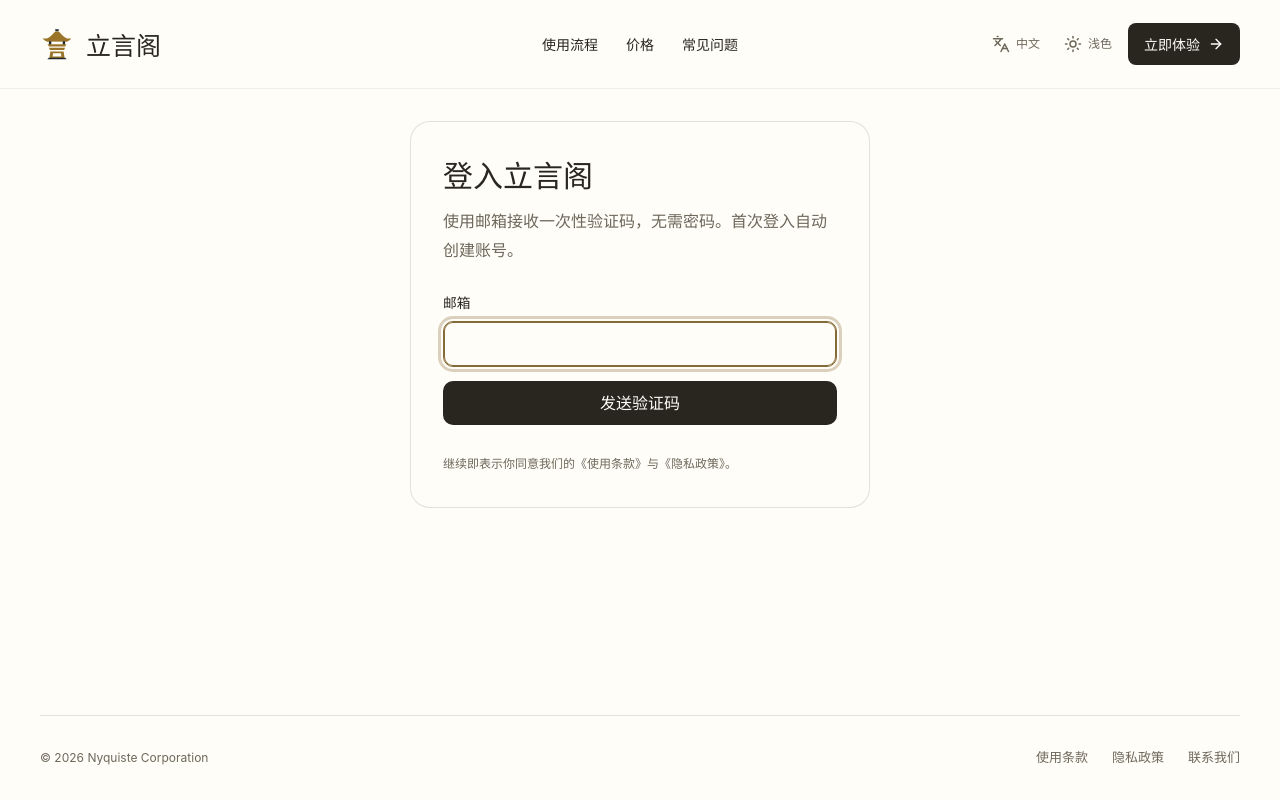
Test: Email OTP sign in › keeps a signed-out visitor's language choice for the next visit
Click the button with aria-label "语言: 中文" at (1016, 44), box [984, 22, 1048, 66]
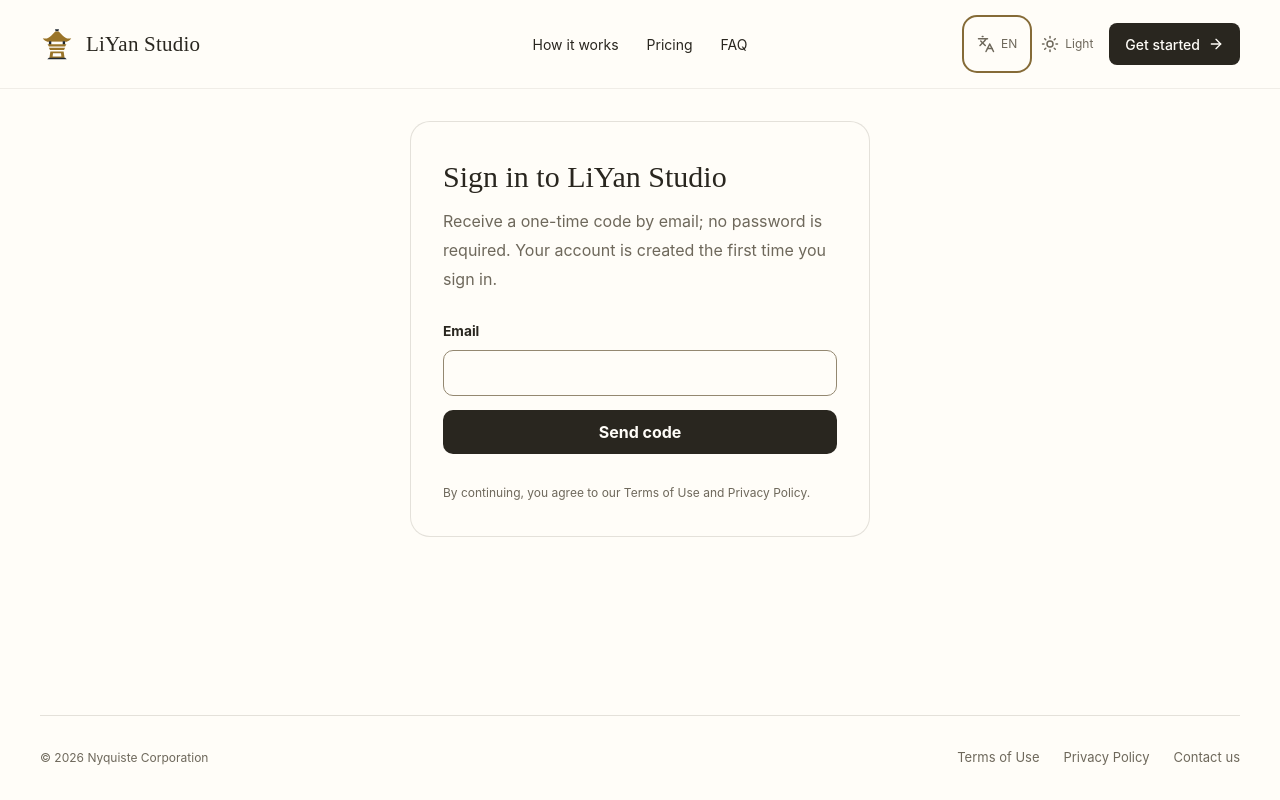
Expected: the field labelled "Email" is shown, [443, 350, 837, 396]
Now the button with aria-label "Language: English" is shown, box [969, 22, 1025, 66]
